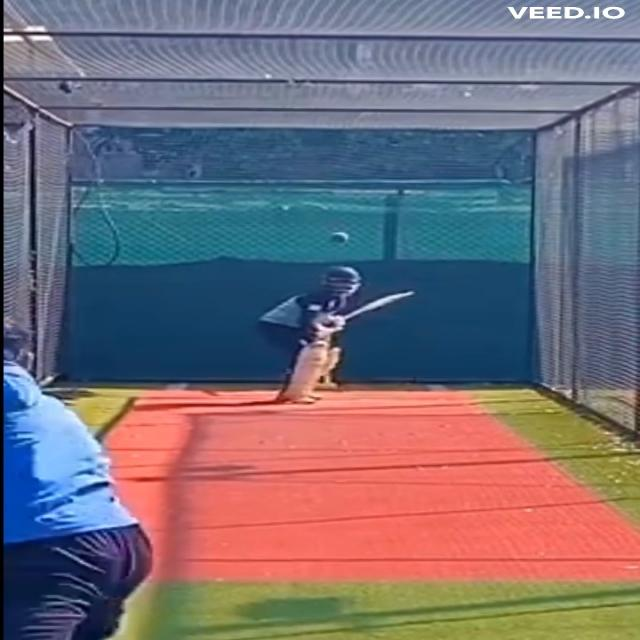ball: (327, 229, 351, 246)
